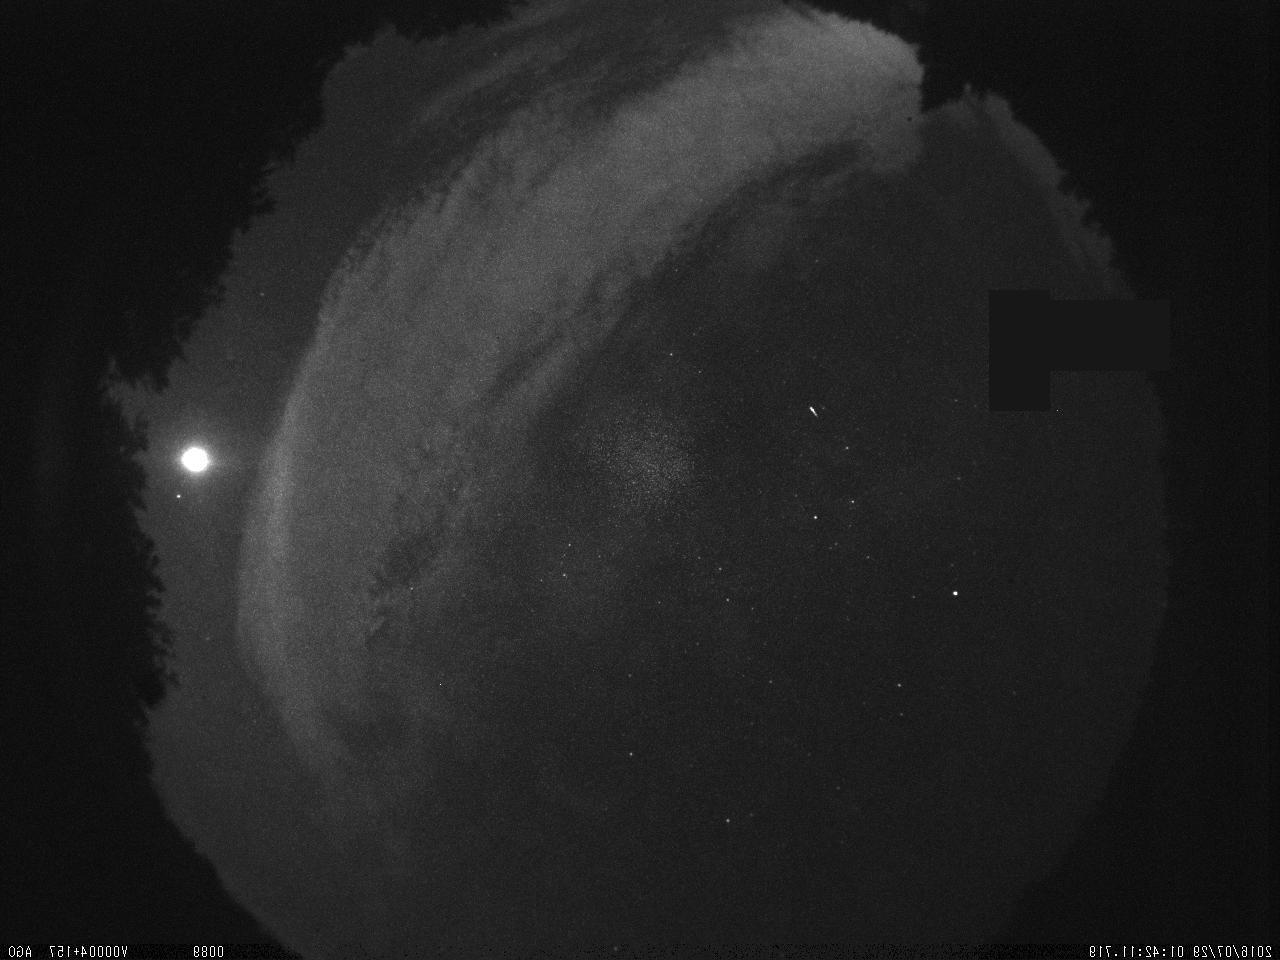meteor: (805, 402, 822, 421)
